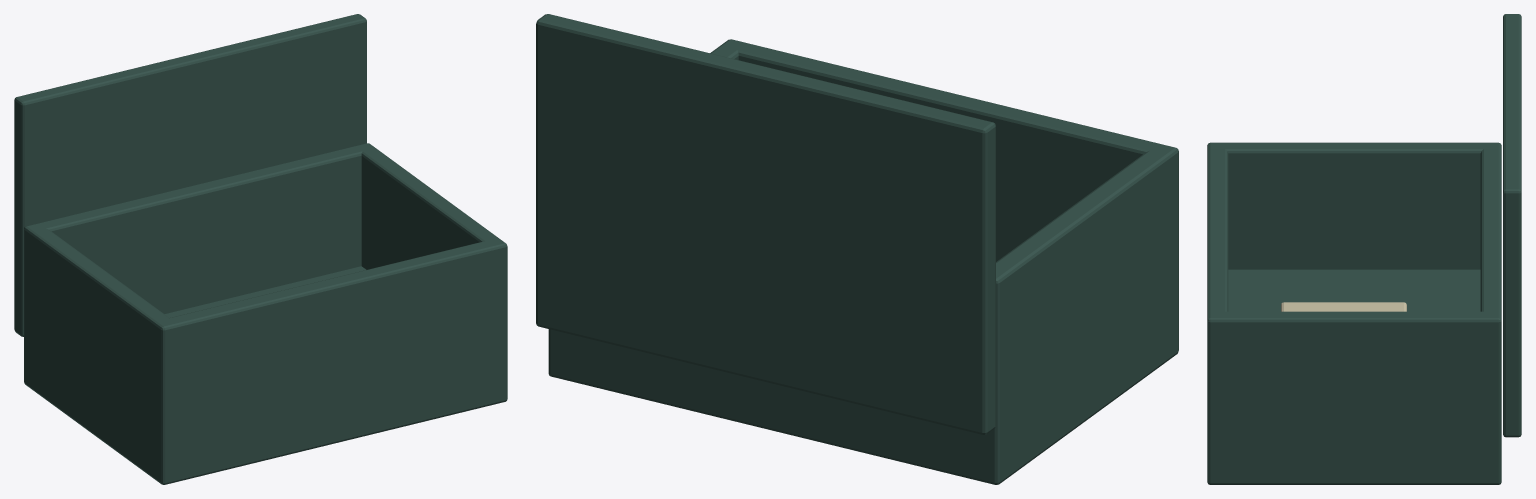
File: story-preparation-box.fbx
3 views of the same model, side by side, from view 1: azimuth 30°, elevation 25°; view 2: azimuth 150°, elevation 25°; view 3: azimuth 270°, elevation 25° (orthographic). The views are drawn at different scales.
Parts seen in each view (by area): view 1: Box end, Open lid, Box end.001, Box side, Preparation box base, Box side.001; view 2: Open lid, Preparation box base, Box side, Box end, Box end.001; view 3: Box side.001, Box side, Preparation box base, Open lid, Box end.001, Box end, Name card.
Part boxes in pixels (<box>): Box end: <box>154,241,501,460</box>; Open lid: <box>14,14,366,336</box>; Box end.001: <box>24,143,375,362</box>; Box side: <box>31,228,177,460</box>; Preparation box base: <box>24,266,507,484</box>; Box side.001: <box>361,148,507,380</box>; Open lid: <box>536,14,995,434</box>; Preparation box base: <box>548,299,1178,484</box>; Box side: <box>994,144,1178,452</box>; Box end: <box>737,43,1178,305</box>; Box end.001: <box>899,269,1009,451</box>; Box side.001: <box>1207,311,1500,459</box>; Box side: <box>1207,142,1483,269</box>; Preparation box base: <box>1207,269,1501,484</box>; Open lid: <box>1503,14,1521,437</box>; Box end.001: <box>1480,142,1501,459</box>; Box end: <box>1207,149,1228,459</box>; Name card: <box>1281,302,1406,311</box>.
Bounding box in the file's own units: 0.4 × 0.31 × 0.299.
